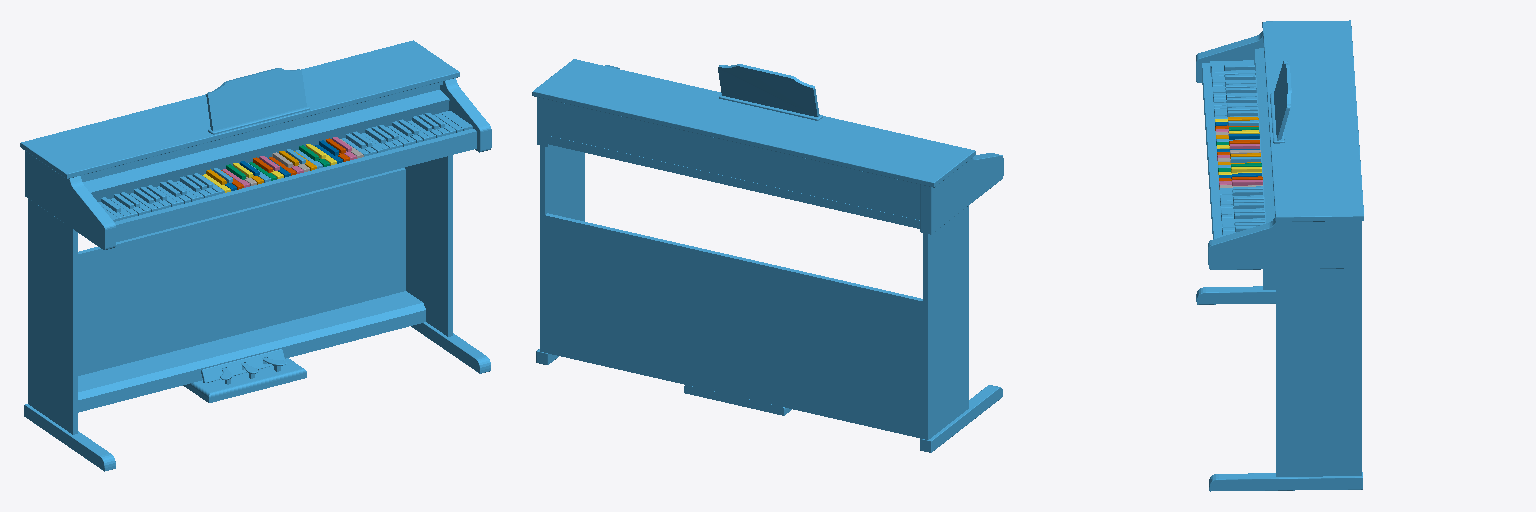
--- What the picture shows (computed from the rendered views, not written in the file) ---
The picture shows the robot from 3 angles, left to right: view 1: azimuth 30°, elevation 25°; view 2: azimuth 150°, elevation 25°; view 3: azimuth 270°, elevation 25°; orthographic projection.
Robot: piano — 39 links, 38 joints (36 revolute, 2 fixed); root link base_link; default pose: every joint at zero.
Visible links, largest first — view 1: frame; view 2: frame; view 3: frame.
Link boxes in pixels (x1,y1,x2,y2): frame: (20,40,491,471); frame: (532,59,1003,452); frame: (1196,20,1363,491).
Size in the robot's own frame: 1.87 by 0.678 by 1.41 metres.
Meshes: 38 distinct files referenced, 38 mesh visuals loaded (38 OBJ).

robot.urdf — piano:
<?xml version="1.0" ?>
<robot name="piano" xmlns:xacro="http://www.ros.org/wiki/xacro">
  <link name="base_link">
  </link>
  <joint name="frame_joint" type="fixed">
    <parent link="base_link"/>
    <child link="frame"/>
    <origin rpy="1.57079 0 0" xyz="0 0 0.071"/>
  </joint>
  <link name="frame">
    <visual>
      <geometry>
        <mesh filename="frame.obj"/>
      </geometry>
    </visual>
    <visual>
      <geometry>
        <mesh filename="fixed_key.obj"/>
      </geometry>
    </visual>
    <collision>
      <origin rpy="0 0.028443 0" xyz="0 0.45 0.23"/>
      <geometry>
        <box size="1.9 1.06 0.62"/>
      </geometry>
    </collision>
    <collision>
      <origin rpy="0 0.028443 0" xyz="0 1.11 0.11"/>
      <geometry>
        <box size="1.9 0.26 0.38"/>
      </geometry>
    </collision>
    <inertial>
      <mass value="5"/>
      <origin rpy="0 0 0" xyz="0 0 0"/>
      <inertia ixx="1e-1" ixy="0" ixz="0" iyy="1e-1" iyz="0" izz="1e-1"/>
    </inertial>
  </link>
  <link name="white_key_axis_link">
    <inertial>
      <mass value="0.1"/>
      <origin rpy="0 0 0" xyz="0 0 0"/>
      <inertia ixx="1e-4" ixy="0" ixz="0" iyy="1e-4" iyz="0" izz="1e-4"/>
    </inertial>
  </link>
  <joint name="white_key_axis_joint" type="fixed">
    <parent link="frame"/>
    <child link="white_key_axis_link"/>
    <origin rpy="0.0 0.028443 0" xyz="0 1.04 0.34"/>
  </joint>

  <!--  First group white key-->
  <link name="white_key_0">
    <visual>
      <origin xyz="0.011 -1.04 -0.34" rpy="0 -0.028433 0"/>
      <geometry>
        <mesh filename="key/Line029.obj"/>
      </geometry>
    </visual>
    <collision>
      <origin xyz="-0.275 -0.01 0.074" rpy="0 0 0"/>
      <geometry>
        <box size="0.0288 0.015 0.175"/>
      </geometry>
    </collision>
  </link>
  <joint name="white_key_0_joint" type="revolute">
    <axis xyz="1 0 0"/>
    <origin xyz="0 0 0" rpy="0 0 0"/>
    <parent link="white_key_axis_link"/>
    <child link="white_key_0"/>
    <limit effort="20" velocity="0.2" lower="0" upper="0.08"/>
  </joint>
  <link name="white_key_1">
    <visual>
      <origin xyz="0.011 -1.04 -0.34" rpy="0 -0.028433 0"/>
      <geometry>
        <mesh filename="key/Line011.obj"/>
      </geometry>
    </visual>
    <collision>
      <origin xyz="-0.245 -0.01 0.074" rpy="0 0 0"/>
      <geometry>
        <box size="0.0288 0.015 0.175"/>
      </geometry>
    </collision>
  </link>
  <joint name="white_key_1_joint" type="revolute">
    <axis xyz="1 0 0"/>
    <origin xyz="0 0 0" rpy="0 0 0"/>
    <parent link="white_key_axis_link"/>
    <child link="white_key_1"/>
    <limit effort="20" velocity="0.2" lower="0" upper="0.08"/>
  </joint>
  <link name="white_key_2">
    <visual>
      <origin xyz="0.011 -1.04 -0.34" rpy="0 -0.028433 0"/>
      <geometry>
        <mesh filename="key/Line042.obj"/>
      </geometry>
    </visual>
    <collision>
      <origin xyz="-0.212 -0.01 0.074" rpy="0 0 0"/>
      <geometry>
        <box size="0.0288 0.015 0.175"/>
      </geometry>
    </collision>
  </link>
  <joint name="white_key_2_joint" type="revolute">
    <axis xyz="1 0 0"/>
    <origin xyz="0 0 0" rpy="0 0 0"/>
    <parent link="white_key_axis_link"/>
    <child link="white_key_2"/>
    <limit effort="20" velocity="0.2" lower="0" upper="0.08"/>
  </joint>
  <link name="white_key_3">
    <visual>
      <origin xyz="0.011 -1.04 -0.34" rpy="0 -0.028433 0"/>
      <geometry>
        <mesh filename="key/Line030.obj"/>
      </geometry>
    </visual>
    <collision>
      <origin xyz="-0.182 -0.01 0.074" rpy="0 0 0"/>
      <geometry>
        <box size="0.0288 0.015 0.175"/>
      </geometry>
    </collision>
  </link>
  <joint name="white_key_3_joint" type="revolute">
    <axis xyz="1 0 0"/>
    <origin xyz="0 0 0" rpy="0 0 0"/>
    <parent link="white_key_axis_link"/>
    <child link="white_key_3"/>
    <limit effort="20" velocity="0.2" lower="0" upper="0.08"/>
  </joint>
  <link name="white_key_4">
    <visual>
      <origin xyz="0.011 -1.04 -0.34" rpy="0 -0.028433 0"/>
      <geometry>
        <mesh filename="key/Line012.obj"/>
      </geometry>
    </visual>
    <collision>
      <origin xyz="-0.15 -0.01 0.074" rpy="0 0 0"/>
      <geometry>
        <box size="0.0288 0.015 0.175"/>
      </geometry>
    </collision>
  </link>
  <joint name="white_key_4_joint" type="revolute">
    <axis xyz="1 0 0"/>
    <origin xyz="0 0 0" rpy="0 0 0"/>
    <parent link="white_key_axis_link"/>
    <child link="white_key_4"/>
    <limit effort="20" velocity="0.2" lower="0" upper="0.08"/>
  </joint>
  <link name="white_key_5">
    <visual>
      <origin xyz="0.011 -1.04 -0.34" rpy="0 -0.028433 0"/>
      <geometry>
        <mesh filename="key/Line013.obj"/>
      </geometry>
    </visual>
    <collision>
      <origin xyz="-0.12 -0.01 0.074" rpy="0 0 0"/>
      <geometry>
        <box size="0.0288 0.015 0.175"/>
      </geometry>
    </collision>
  </link>
  <joint name="white_key_5_joint" type="revolute">
    <axis xyz="1 0 0"/>
    <origin xyz="0 0 0" rpy="0 0 0"/>
    <parent link="white_key_axis_link"/>
    <child link="white_key_5"/>
    <limit effort="20" velocity="0.2" lower="0" upper="0.08"/>
  </joint>
  <link name="white_key_6">
    <visual>
      <origin xyz="0.011 -1.04 -0.34" rpy="0 -0.028433 0"/>
      <geometry>
        <mesh filename="key/Line043.obj"/>
      </geometry>
    </visual>
    <collision>
      <origin xyz="-0.086 -0.01 0.074" rpy="0 0 0"/>
      <geometry>
        <box size="0.0288 0.015 0.175"/>
      </geometry>
    </collision>
  </link>
  <joint name="white_key_6_joint" type="revolute">
    <axis xyz="1 0 0"/>
    <origin xyz="0 0 0" rpy="0 0 0"/>
    <parent link="white_key_axis_link"/>
    <child link="white_key_6"/>
    <limit effort="20" velocity="0.2" lower="0" upper="0.08"/>
  </joint>

  <!--  Second group white key-->
  <link name="white_key_7">
    <visual>
      <origin xyz="0.011 -1.04 -0.34" rpy="0 -0.028433 0"/>
      <geometry>
        <mesh filename="key/Line031.obj"/>
      </geometry>
    </visual>
    <collision>
      <origin xyz="-0.055 -0.01 0.074" rpy="0 0 0"/>
      <geometry>
        <box size="0.0288 0.015 0.175"/>
      </geometry>
    </collision>
  </link>
  <joint name="white_key_7_joint" type="revolute">
    <axis xyz="1 0 0"/>
    <origin xyz="0 0 0" rpy="0 0 0"/>
    <parent link="white_key_axis_link"/>
    <child link="white_key_7"/>
    <limit effort="20" velocity="0.2" lower="0" upper="0.08"/>
  </joint>
  <link name="white_key_8">
    <visual>
      <origin xyz="0.011 -1.04 -0.34" rpy="0 -0.028433 0"/>
      <geometry>
        <mesh filename="key/Line014.obj"/>
      </geometry>
    </visual>
    <collision>
      <origin xyz="-0.025 -0.01 0.074" rpy="0 0 0"/>
      <geometry>
        <box size="0.0288 0.015 0.175"/>
      </geometry>
    </collision>
  </link>
  <joint name="white_key_8_joint" type="revolute">
    <axis xyz="1 0 0"/>
    <origin xyz="0 0 0" rpy="0 0 0"/>
    <parent link="white_key_axis_link"/>
    <child link="white_key_8"/>
    <limit effort="20" velocity="0.2" lower="0" upper="0.08"/>
  </joint>
  <link name="white_key_9">
    <visual>
      <origin xyz="0.011 -1.04 -0.34" rpy="0 -0.028433 0"/>
      <geometry>
        <mesh filename="key/Line044.obj"/>
      </geometry>
    </visual>
    <collision>
      <origin xyz="0.008 -0.01 0.074" rpy="0 0 0"/>
      <geometry>
        <box size="0.0288 0.015 0.175"/>
      </geometry>
    </collision>
  </link>
  <joint name="white_key_9_joint" type="revolute">
    <axis xyz="1 0 0"/>
    <origin xyz="0 0 0" rpy="0 0 0"/>
    <parent link="white_key_axis_link"/>
    <child link="white_key_9"/>
    <limit effort="20" velocity="0.2" lower="0" upper="0.08"/>
  </joint>
  <link name="white_key_10">
    <visual>
      <origin xyz="0.011 -1.04 -0.34" rpy="0 -0.028433 0"/>
      <geometry>
        <mesh filename="key/Line032.obj"/>
      </geometry>
    </visual>
    <collision>
      <origin xyz="0.038 -0.01 0.074" rpy="0 0 0"/>
      <geometry>
        <box size="0.0288 0.015 0.175"/>
      </geometry>
    </collision>
  </link>
  <joint name="white_key_10_joint" type="revolute">
    <axis xyz="1 0 0"/>
    <origin xyz="0 0 0" rpy="0 0 0"/>
    <parent link="white_key_axis_link"/>
    <child link="white_key_10"/>
    <limit effort="20" velocity="0.2" lower="0" upper="0.08"/>
  </joint>
  <link name="white_key_11">
    <visual>
      <origin xyz="0.011 -1.04 -0.34" rpy="0 -0.028433 0"/>
      <geometry>
        <mesh filename="key/Line015.obj"/>
      </geometry>
    </visual>
    <collision>
      <origin xyz="0.07 -0.01 0.074" rpy="0 0 0"/>
      <geometry>
        <box size="0.0288 0.015 0.175"/>
      </geometry>
    </collision>
  </link>
  <joint name="white_key_11_joint" type="revolute">
    <axis xyz="1 0 0"/>
    <origin xyz="0 0 0" rpy="0 0 0"/>
    <parent link="white_key_axis_link"/>
    <child link="white_key_11"/>
    <limit effort="20" velocity="0.2" lower="0" upper="0.08"/>
  </joint>
  <link name="white_key_12">
    <visual>
      <origin xyz="0.011 -1.04 -0.34" rpy="0 -0.028433 0"/>
      <geometry>
        <mesh filename="key/Line016.obj"/>
      </geometry>
    </visual>
    <collision>
      <origin xyz="0.10 -0.01 0.074" rpy="0 0 0"/>
      <geometry>
        <box size="0.0288 0.015 0.175"/>
      </geometry>
    </collision>
  </link>
  <joint name="white_key_12_joint" type="revolute">
    <axis xyz="1 0 0"/>
    <origin xyz="0 0 0" rpy="0 0 0"/>
    <parent link="white_key_axis_link"/>
    <child link="white_key_12"/>
    <limit effort="20" velocity="0.2" lower="0" upper="0.08"/>
  </joint>
  <link name="white_key_13">
    <visual>
      <origin xyz="0.011 -1.04 -0.34" rpy="0 -0.028433 0"/>
      <geometry>
        <mesh filename="key/Line045.obj"/>
      </geometry>
    </visual>
    <collision>
      <origin xyz="0.134 -0.01 0.074" rpy="0 0 0"/>
      <geometry>
        <box size="0.0288 0.015 0.175"/>
      </geometry>
    </collision>
  </link>
  <joint name="white_key_13_joint" type="revolute">
    <axis xyz="1 0 0"/>
    <origin xyz="0 0 0" rpy="0 0 0"/>
    <parent link="white_key_axis_link"/>
    <child link="white_key_13"/>
    <limit effort="20" velocity="0.2" lower="0" upper="0.08"/>
  </joint>

  <!--  Third group white key-->
  <link name="white_key_14">
    <visual>
      <origin xyz="0.011 -1.04 -0.34" rpy="0 -0.028433 0"/>
      <geometry>
        <mesh filename="key/Line033.obj"/>
      </geometry>
    </visual>
    <collision>
      <origin xyz="0.165 -0.01 0.074" rpy="0 0 0"/>
      <geometry>
        <box size="0.0288 0.015 0.175"/>
      </geometry>
    </collision>
  </link>
  <joint name="white_key_14_joint" type="revolute">
    <axis xyz="1 0 0"/>
    <origin xyz="0 0 0" rpy="0 0 0"/>
    <parent link="white_key_axis_link"/>
    <child link="white_key_14"/>
    <limit effort="20" velocity="0.2" lower="0" upper="0.08"/>
  </joint>
  <link name="white_key_15">
    <visual>
      <origin xyz="0.011 -1.04 -0.34" rpy="0 -0.028433 0"/>
      <geometry>
        <mesh filename="key/Line017.obj"/>
      </geometry>
    </visual>
    <collision>
      <origin xyz="0.195 -0.01 0.074" rpy="0 0 0"/>
      <geometry>
        <box size="0.0288 0.015 0.175"/>
      </geometry>
    </collision>
  </link>
  <joint name="white_key_15_joint" type="revolute">
    <axis xyz="1 0 0"/>
    <origin xyz="0 0 0" rpy="0 0 0"/>
    <parent link="white_key_axis_link"/>
    <child link="white_key_15"/>
    <limit effort="20" velocity="0.2" lower="0" upper="0.08"/>
  </joint>
  <link name="white_key_16">
    <visual>
      <origin xyz="0.011 -1.04 -0.34" rpy="0 -0.028433 0"/>
      <geometry>
        <mesh filename="key/Line046.obj"/>
      </geometry>
    </visual>
    <collision>
      <origin xyz="0.228 -0.01 0.074" rpy="0 0 0"/>
      <geometry>
        <box size="0.0288 0.015 0.175"/>
      </geometry>
    </collision>
  </link>
  <joint name="white_key_16_joint" type="revolute">
    <axis xyz="1 0 0"/>
    <origin xyz="0 0 0" rpy="0 0 0"/>
    <parent link="white_key_axis_link"/>
    <child link="white_key_16"/>
    <limit effort="20" velocity="0.2" lower="0" upper="0.08"/>
  </joint>
  <link name="white_key_17">
    <visual>
      <origin xyz="0.011 -1.04 -0.34" rpy="0 -0.028433 0"/>
      <geometry>
        <mesh filename="key/Line034.obj"/>
      </geometry>
    </visual>
    <collision>
      <origin xyz="0.258 -0.01 0.074" rpy="0 0 0"/>
      <geometry>
        <box size="0.0288 0.015 0.175"/>
      </geometry>
    </collision>
  </link>
  <joint name="white_key_17_joint" type="revolute">
    <axis xyz="1 0 0"/>
    <origin xyz="0 0 0" rpy="0 0 0"/>
    <parent link="white_key_axis_link"/>
    <child link="white_key_17"/>
    <limit effort="20" velocity="0.2" lower="0" upper="0.08"/>
  </joint>
  <link name="white_key_18">
    <visual>
      <origin xyz="0.011 -1.04 -0.34" rpy="0 -0.028433 0"/>
      <geometry>
        <mesh filename="key/Line018.obj"/>
      </geometry>
    </visual>
    <collision>
      <origin xyz="0.29 -0.01 0.074" rpy="0 0 0"/>
      <geometry>
        <box size="0.0288 0.015 0.175"/>
      </geometry>
    </collision>
  </link>
  <joint name="white_key_18_joint" type="revolute">
    <axis xyz="1 0 0"/>
    <origin xyz="0 0 0" rpy="0 0 0"/>
    <parent link="white_key_axis_link"/>
    <child link="white_key_18"/>
    <limit effort="20" velocity="0.2" lower="0" upper="0.08"/>
  </joint>
  <link name="white_key_19">
    <visual>
      <origin xyz="0.011 -1.04 -0.34" rpy="0 -0.028433 0"/>
      <geometry>
        <mesh filename="key/Line019.obj"/>
      </geometry>
    </visual>
    <collision>
      <origin xyz="0.32 -0.01 0.074" rpy="0 0 0"/>
      <geometry>
        <box size="0.0288 0.015 0.175"/>
      </geometry>
    </collision>
  </link>
  <joint name="white_key_19_joint" type="revolute">
    <axis xyz="1 0 0"/>
    <origin xyz="0 0 0" rpy="0 0 0"/>
    <parent link="white_key_axis_link"/>
    <child link="white_key_19"/>
    <limit effort="20" velocity="0.2" lower="0" upper="0.08"/>
  </joint>
  <link name="white_key_20">
    <visual>
      <origin xyz="0.011 -1.04 -0.34" rpy="0 -0.028433 0"/>
      <geometry>
        <mesh filename="key/Line047.obj"/>
      </geometry>
    </visual>
    <collision>
      <origin xyz="0.254 -0.01 0.074" rpy="0 0 0"/>
      <geometry>
        <box size="0.0288 0.015 0.175"/>
      </geometry>
    </collision>
  </link>
  <joint name="white_key_20_joint" type="revolute">
    <axis xyz="1 0 0"/>
    <origin xyz="0 0 0" rpy="0 0 0"/>
    <parent link="white_key_axis_link"/>
    <child link="white_key_20"/>
    <limit effort="20" velocity="0.2" lower="0" upper="0.08"/>
  </joint>

  <!--  First group black key-->
  <link name="black_key_0">
    <visual>
      <origin xyz="0.011 -1.04 -0.34" rpy="0 -0.028433 0"/>
      <geometry>
        <mesh filename="key/Rectangle012.obj"/>
      </geometry>
    </visual>
    <collision>
      <origin xyz="-0.26 -0.005 0.05" rpy="0 0 0"/>
      <geometry>
        <box size="0.0215 0.03 0.123"/>
      </geometry>
    </collision>
  </link>
  <joint name="black_key_0_joint" type="revolute">
    <axis xyz="1 0 0"/>
    <origin xyz="0 0 0" rpy="0 0 0"/>
    <parent link="white_key_axis_link"/>
    <child link="black_key_0"/>
    <limit effort="20" velocity="0.2" lower="0" upper="0.08"/>
  </joint>
  <link name="black_key_1">
    <visual>
      <origin xyz="0.011 -1.04 -0.34" rpy="0 -0.028433 0"/>
      <geometry>
        <mesh filename="key/Rectangle013.obj"/>
      </geometry>
    </visual>
    <collision>
      <origin xyz="-0.23 -0.005 0.05" rpy="0 0 0"/>
      <geometry>
        <box size="0.0215 0.03 0.123"/>
      </geometry>
    </collision>
  </link>
  <joint name="black_key_1_joint" type="revolute">
    <axis xyz="1 0 0"/>
    <origin xyz="0 0 0" rpy="0 0 0"/>
    <parent link="white_key_axis_link"/>
    <child link="black_key_1"/>
    <limit effort="20" velocity="0.2" lower="0" upper="0.08"/>
  </joint>
  <link name="black_key_2">
    <visual>
      <origin xyz="0.011 -1.04 -0.34" rpy="0 -0.028433 0"/>
      <geometry>
        <mesh filename="key/Rectangle014.obj"/>
      </geometry>
    </visual>
    <collision>
      <origin xyz="-0.165 -0.005 0.05" rpy="0 0 0"/>
      <geometry>
        <box size="0.0215 0.03 0.123"/>
      </geometry>
    </collision>
  </link>
  <joint name="black_key_2_joint" type="revolute">
    <axis xyz="1 0 0"/>
    <origin xyz="0 0 0" rpy="0 0 0"/>
    <parent link="white_key_axis_link"/>
    <child link="black_key_2"/>
    <limit effort="20" velocity="0.2" lower="0" upper="0.08"/>
  </joint>
  <link name="black_key_3">
    <visual>
      <origin xyz="0.011 -1.04 -0.34" rpy="0 -0.028433 0"/>
      <geometry>
        <mesh filename="key/Rectangle015.obj"/>
      </geometry>
    </visual>
    <collision>
      <origin xyz="-0.135 -0.005 0.05" rpy="0 0 0"/>
      <geometry>
        <box size="0.0215 0.03 0.123"/>
      </geometry>
    </collision>
  </link>
  <joint name="black_key_3_joint" type="revolute">
    <axis xyz="1 0 0"/>
    <origin xyz="0 0 0" rpy="0 0 0"/>
    <parent link="white_key_axis_link"/>
    <child link="black_key_3"/>
    <limit effort="20" velocity="0.2" lower="0" upper="0.08"/>
  </joint>
  <link name="black_key_4">
    <visual>
      <origin xyz="0.011 -1.04 -0.34" rpy="0 -0.028433 0"/>
      <geometry>
        <mesh filename="key/Rectangle016.obj"/>
      </geometry>
    </visual>
    <collision>
      <origin xyz="-0.105 -0.005 0.05" rpy="0 0 0"/>
      <geometry>
        <box size="0.0215 0.03 0.123"/>
      </geometry>
    </collision>
  </link>
  <joint name="black_key_4_joint" type="revolute">
    <axis xyz="1 0 0"/>
    <origin xyz="0 0 0" rpy="0 0 0"/>
    <parent link="white_key_axis_link"/>
    <child link="black_key_4"/>
    <limit effort="20" velocity="0.2" lower="0" upper="0.08"/>
  </joint>

  <!--  Second group black key-->
  <link name="black_key_5">
    <visual>
      <origin xyz="0.011 -1.04 -0.34" rpy="0 -0.028433 0"/>
      <geometry>
        <mesh filename="key/Rectangle017.obj"/>
      </geometry>
    </visual>
    <collision>
      <origin xyz="-0.04 -0.005 0.05" rpy="0 0 0"/>
      <geometry>
        <box size="0.0215 0.03 0.123"/>
      </geometry>
    </collision>
  </link>
  <joint name="black_key_5_joint" type="revolute">
    <axis xyz="1 0 0"/>
    <origin xyz="0 0 0" rpy="0 0 0"/>
    <parent link="white_key_axis_link"/>
    <child link="black_key_5"/>
    <limit effort="20" velocity="0.2" lower="0" upper="0.08"/>
  </joint>
  <link name="black_key_6">
    <visual>
      <origin xyz="0.011 -1.04 -0.34" rpy="0 -0.028433 0"/>
      <geometry>
        <mesh filename="key/Rectangle018.obj"/>
      </geometry>
    </visual>
    <collision>
      <origin xyz="-0.01 -0.005 0.05" rpy="0 0 0"/>
      <geometry>
        <box size="0.0215 0.03 0.123"/>
      </geometry>
    </collision>
  </link>
  <joint name="black_key_6_joint" type="revolute">
    <axis xyz="1 0 0"/>
    <origin xyz="0 0 0" rpy="0 0 0"/>
    <parent link="white_key_axis_link"/>
    <child link="black_key_6"/>
    <limit effort="20" velocity="0.2" lower="0" upper="0.08"/>
  </joint>
  <link name="black_key_7">
    <visual>
      <origin xyz="0.011 -1.04 -0.34" rpy="0 -0.028433 0"/>
      <geometry>
        <mesh filename="key/Rectangle019.obj"/>
      </geometry>
    </visual>
    <collision>
      <origin xyz="0.055 -0.005 0.05" rpy="0 0 0"/>
      <geometry>
        <box size="0.0215 0.03 0.123"/>
      </geometry>
    </collision>
  </link>
  <joint name="black_key_7_joint" type="revolute">
    <axis xyz="1 0 0"/>
    <origin xyz="0 0 0" rpy="0 0 0"/>
    <parent link="white_key_axis_link"/>
    <child link="black_key_7"/>
    <limit effort="20" velocity="0.2" lower="0" upper="0.08"/>
  </joint>
  <link name="black_key_8">
    <visual>
      <origin xyz="0.011 -1.04 -0.34" rpy="0 -0.028433 0"/>
      <geometry>
        <mesh filename="key/Rectangle020.obj"/>
      </geometry>
    </visual>
    <collision>
      <origin xyz="0.085 -0.005 0.05" rpy="0 0 0"/>
      <geometry>
        <box size="0.0215 0.03 0.123"/>
      </geometry>
    </collision>
  </link>
  <joint name="black_key_8_joint" type="revolute">
    <axis xyz="1 0 0"/>
    <origin xyz="0 0 0" rpy="0 0 0"/>
    <parent link="white_key_axis_link"/>
    <child link="black_key_8"/>
    <limit effort="20" velocity="0.2" lower="0" upper="0.08"/>
  </joint>
  <link name="black_key_9">
    <visual>
      <origin xyz="0.011 -1.04 -0.34" rpy="0 -0.028433 0"/>
      <geometry>
        <mesh filename="key/Rectangle021.obj"/>
      </geometry>
    </visual>
    <collision>
      <origin xyz="0.115 -0.005 0.05" rpy="0 0 0"/>
      <geometry>
        <box size="0.0215 0.03 0.123"/>
      </geometry>
    </collision>
  </link>
  <joint name="black_key_9_joint" type="revolute">
    <axis xyz="1 0 0"/>
    <origin xyz="0 0 0" rpy="0 0 0"/>
    <parent link="white_key_axis_link"/>
    <child link="black_key_9"/>
    <limit effort="20" velocity="0.2" lower="0" upper="0.08"/>
  </joint>

  <!--  Third group black key-->
  <link name="black_key_10">
    <visual>
      <origin xyz="0.011 -1.04 -0.34" rpy="0 -0.028433 0"/>
      <geometry>
        <mesh filename="key/Rectangle022.obj"/>
      </geometry>
    </visual>
    <collision>
      <origin xyz="0.18 -0.005 0.05" rpy="0 0 0"/>
      <geometry>
        <box size="0.0215 0.03 0.123"/>
      </geometry>
    </collision>
  </link>
  <joint name="black_key_10_joint" type="revolute">
    <axis xyz="1 0 0"/>
    <origin xyz="0 0 0" rpy="0 0 0"/>
    <parent link="white_key_axis_link"/>
    <child link="black_key_10"/>
    <limit effort="20" velocity="0.2" lower="0" upper="0.08"/>
  </joint>
  <link name="black_key_11">
    <visual>
      <origin xyz="0.011 -1.04 -0.34" rpy="0 -0.028433 0"/>
      <geometry>
        <mesh filename="key/Rectangle023.obj"/>
      </geometry>
    </visual>
    <collision>
      <origin xyz="0.21 -0.005 0.05" rpy="0 0 0"/>
      <geometry>
        <box size="0.0215 0.03 0.123"/>
      </geometry>
    </collision>
  </link>
  <joint name="black_key_11_joint" type="revolute">
    <axis xyz="1 0 0"/>
    <origin xyz="0 0 0" rpy="0 0 0"/>
    <parent link="white_key_axis_link"/>
    <child link="black_key_11"/>
    <limit effort="20" velocity="0.2" lower="0" upper="0.08"/>
  </joint>
  <link name="black_key_12">
    <visual>
      <origin xyz="0.011 -1.04 -0.34" rpy="0 -0.028433 0"/>
      <geometry>
        <mesh filename="key/Rectangle024.obj"/>
      </geometry>
    </visual>
    <collision>
      <origin xyz="0.275 -0.005 0.05" rpy="0 0 0"/>
      <geometry>
        <box size="0.0215 0.03 0.123"/>
      </geometry>
    </collision>
  </link>
  <joint name="black_key_12_joint" type="revolute">
    <axis xyz="1 0 0"/>
    <origin xyz="0 0 0" rpy="0 0 0"/>
    <parent link="white_key_axis_link"/>
    <child link="black_key_12"/>
    <limit effort="20" velocity="0.2" lower="0" upper="0.08"/>
  </joint>
  <link name="black_key_13">
    <visual>
      <origin xyz="0.011 -1.04 -0.34" rpy="0 -0.028433 0"/>
      <geometry>
        <mesh filename="key/Rectangle025.obj"/>
      </geometry>
    </visual>
    <collision>
      <origin xyz="0.305 -0.005 0.05" rpy="0 0 0"/>
      <geometry>
        <box size="0.0215 0.03 0.123"/>
      </geometry>
    </collision>
  </link>
  <joint name="black_key_13_joint" type="revolute">
    <axis xyz="1 0 0"/>
    <origin xyz="0 0 0" rpy="0 0 0"/>
    <parent link="white_key_axis_link"/>
    <child link="black_key_13"/>
    <limit effort="20" velocity="0.2" lower="0" upper="0.08"/>
  </joint>
  <link name="black_key_14">
    <visual>
      <origin xyz="0.011 -1.04 -0.34" rpy="0 -0.028433 0"/>
      <geometry>
        <mesh filename="key/Rectangle026.obj"/>
      </geometry>
    </visual>
    <collision>
      <origin xyz="0.335 -0.005 0.05" rpy="0 0 0"/>
      <geometry>
        <box size="0.0215 0.03 0.123"/>
      </geometry>
    </collision>
  </link>
  <joint name="black_key_14_joint" type="revolute">
    <axis xyz="1 0 0"/>
    <origin xyz="0 0 0" rpy="0 0 0"/>
    <parent link="white_key_axis_link"/>
    <child link="black_key_14"/>
    <limit effort="20" velocity="0.2" lower="0" upper="0.08"/>
  </joint>
</robot>
